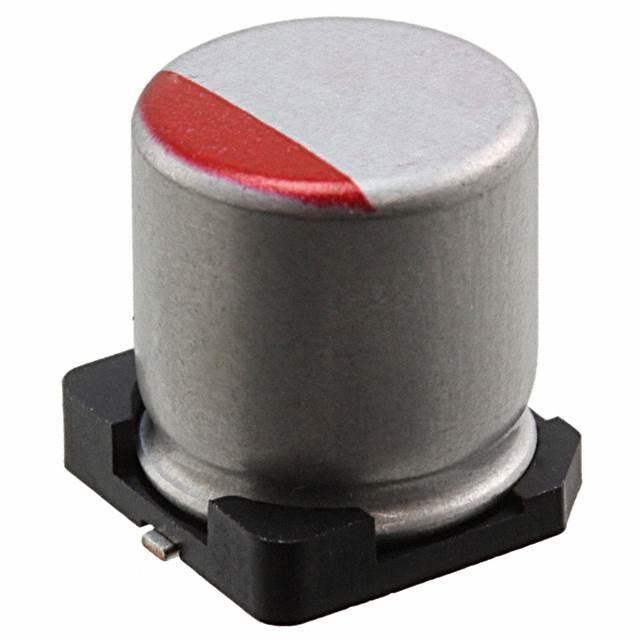Capacitor: (118, 14, 558, 527)
